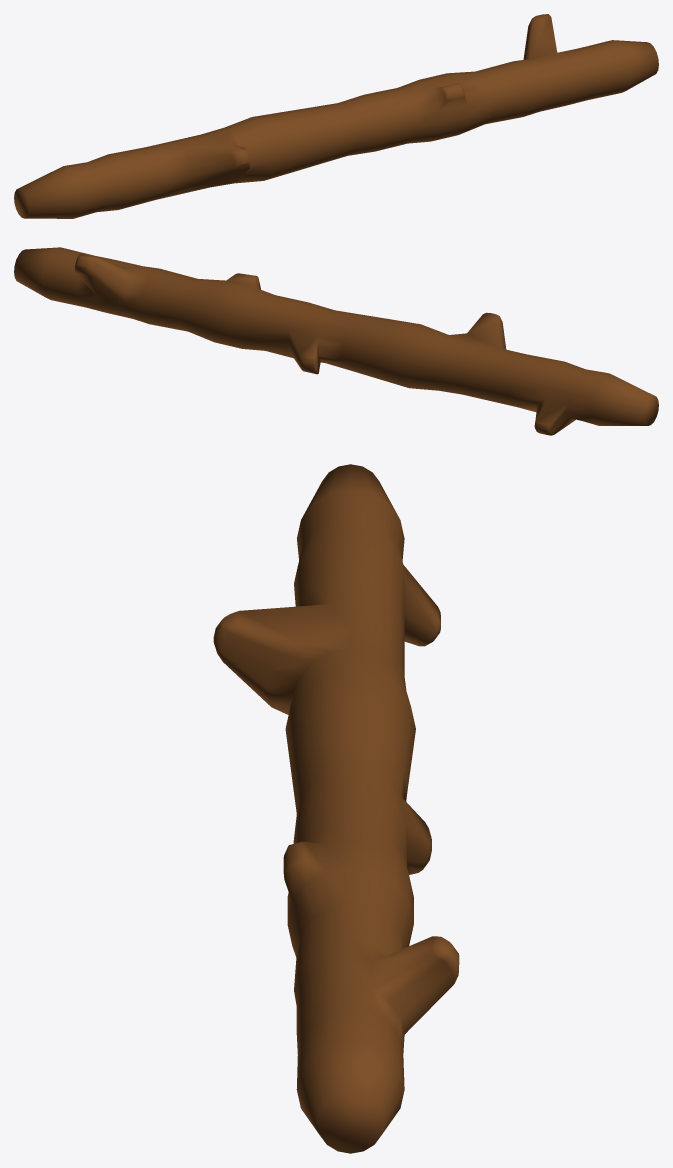
File: StickSmooth 1.fbx
3 renders of one model, top to bottom at view 1: azimuth 30°, elevation 25°; view 2: azimuth 150°, elevation 25°; view 3: azimuth 270°, elevation 25°, orthographic. The views are drawn at different scales.
Parts seen in each view (by area): view 1: Cylinder.004; view 2: Cylinder.004; view 3: Cylinder.004.
Boxes of the visible parts, box(x1,y1,x2,y2) form: Cylinder.004: box(14, 14, 658, 218); Cylinder.004: box(14, 247, 658, 435); Cylinder.004: box(213, 464, 459, 1153).
Size of the model in its own units: 177 by 19.81 by 29.99.
